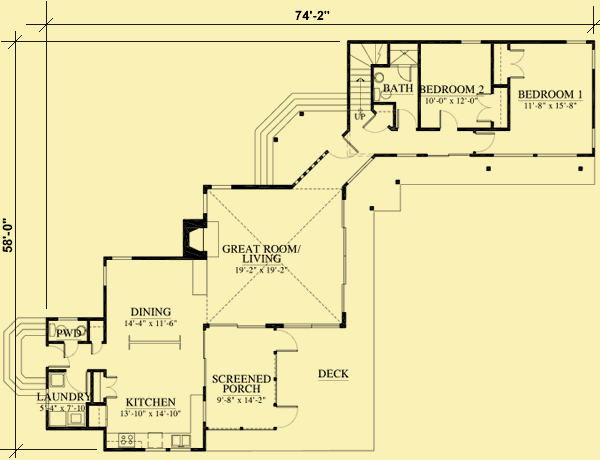door: (325, 134, 360, 161), (273, 402, 301, 432), (271, 328, 300, 355), (507, 45, 526, 82), (434, 107, 460, 133), (475, 91, 494, 125), (361, 114, 390, 136), (475, 128, 498, 153), (102, 372, 120, 401), (396, 105, 416, 131), (395, 63, 414, 83), (62, 339, 80, 360), (87, 339, 104, 355)
large sink: (373, 86, 395, 105)
small sink: (373, 69, 389, 86)
stairs: (347, 65, 373, 123)
windows: (535, 149, 579, 161), (110, 253, 136, 264), (458, 37, 485, 47), (209, 182, 234, 192), (590, 46, 598, 76), (200, 396, 209, 422), (100, 263, 110, 286), (590, 124, 599, 149)
